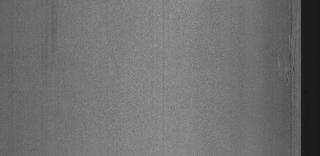silk spot: (266, 12, 300, 98)
